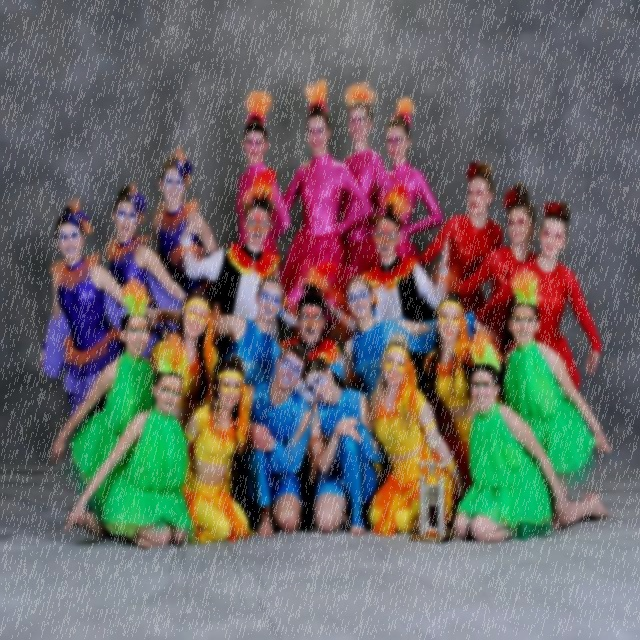pessoa: (497, 263, 619, 531), (36, 196, 170, 437), (48, 277, 160, 544), (62, 331, 196, 550), (451, 327, 577, 542), (473, 200, 602, 390), (280, 79, 373, 324), (365, 332, 467, 540), (342, 272, 502, 403), (320, 186, 452, 334), (400, 158, 505, 320), (141, 270, 287, 383), (421, 296, 504, 494), (300, 356, 385, 536), (178, 187, 286, 326), (179, 354, 257, 546), (246, 341, 316, 540), (366, 94, 446, 266), (102, 181, 190, 333), (444, 180, 544, 306), (338, 78, 394, 284), (150, 143, 220, 298), (147, 288, 220, 432), (277, 281, 363, 389), (236, 88, 292, 252)
